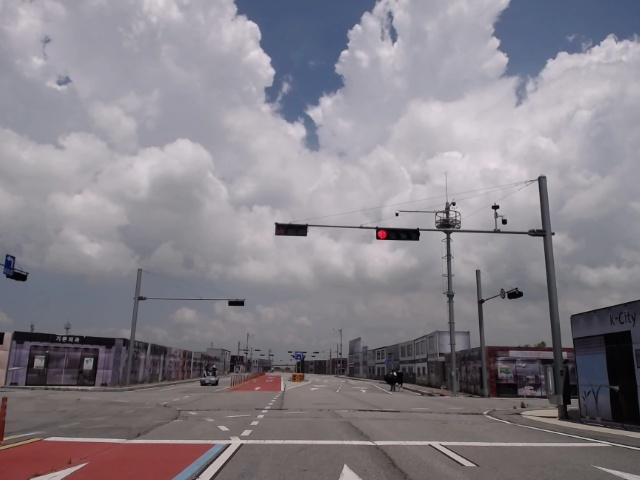red_4: (376, 228, 419, 241)
